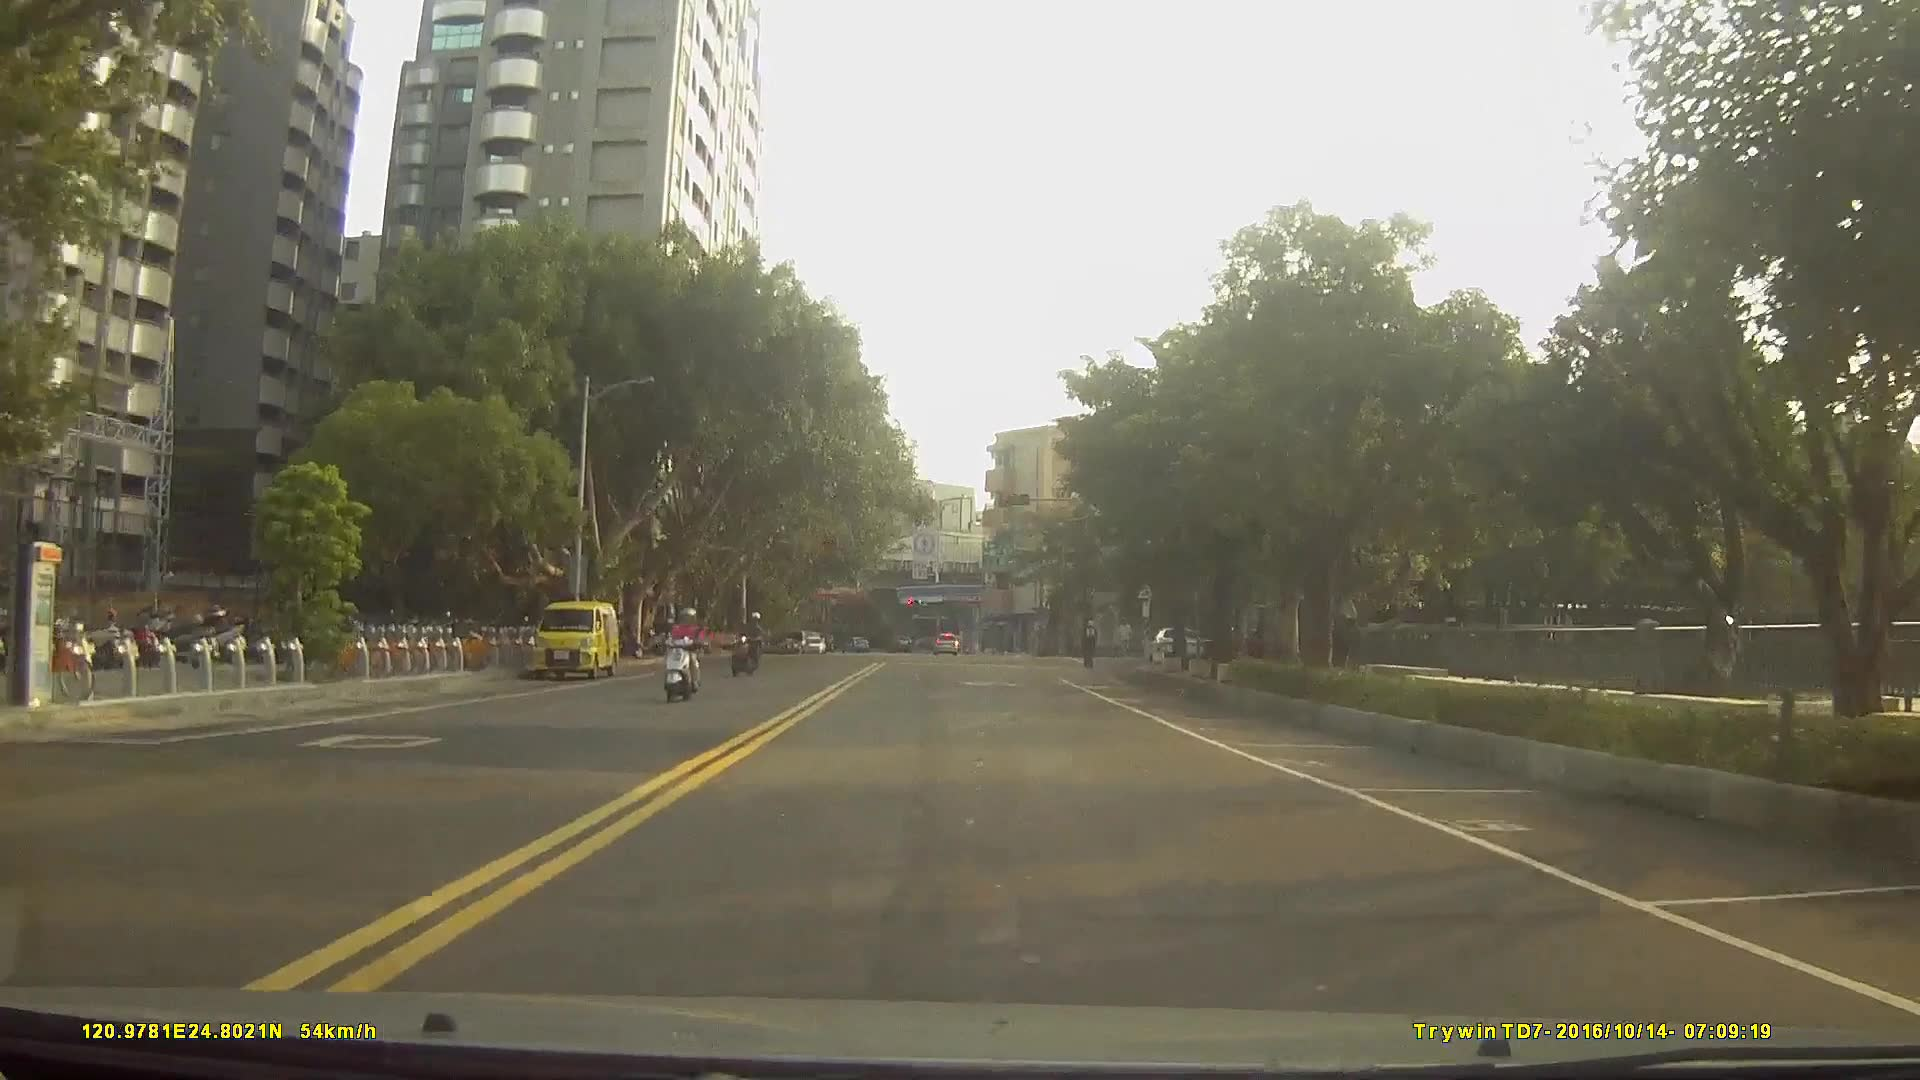pedestrian: (1116, 613, 1136, 658)
rider: (660, 608, 711, 700), (731, 607, 768, 673), (1080, 619, 1102, 673)
vehicle: (934, 632, 959, 655)
